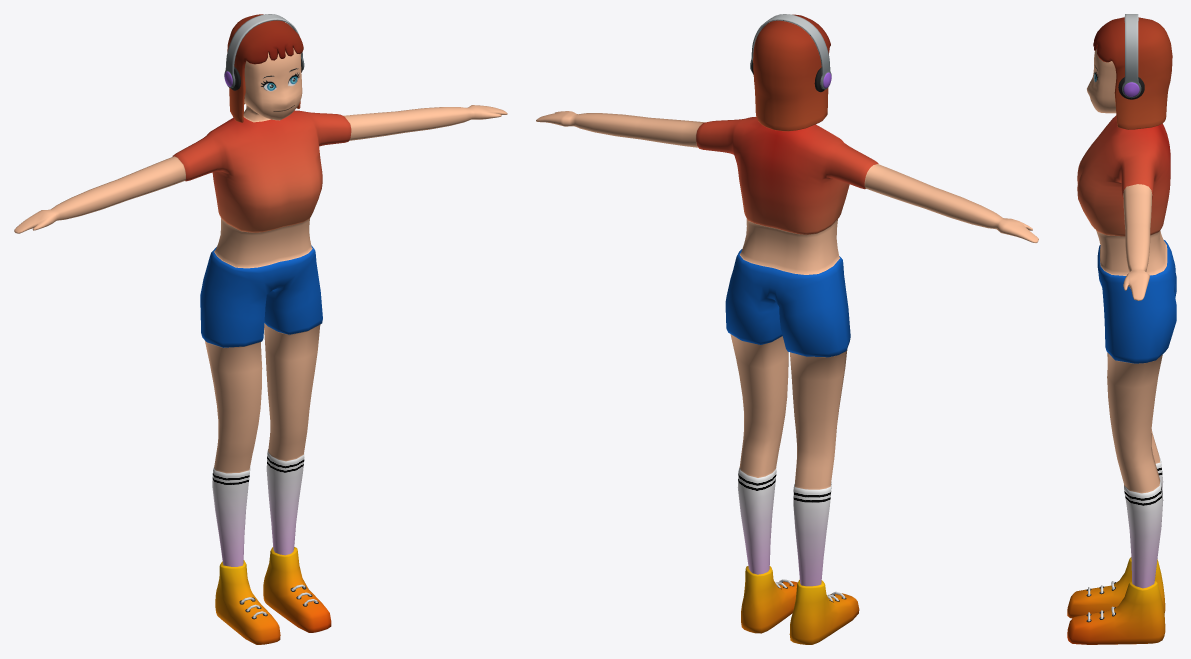
Rendered from deneme.fbx.
3 views of the same model, side by side, from view 1: azimuth 30°, elevation 25°; view 2: azimuth 150°, elevation 25°; view 3: azimuth 270°, elevation 25° (orthographic).
Visible parts, largest first — view 1: Model2.001; view 2: Model2.001; view 3: Model2.001.
Boxes of the visible parts, bbox=[...] form: Model2.001: bbox=[14, 14, 507, 644]; Model2.001: bbox=[536, 14, 1038, 644]; Model2.001: bbox=[1067, 14, 1176, 644].
Bounding box in the file's own units: 152 × 177 × 28.86.
